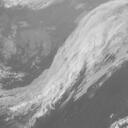cyclone: (42, 49, 92, 92)
